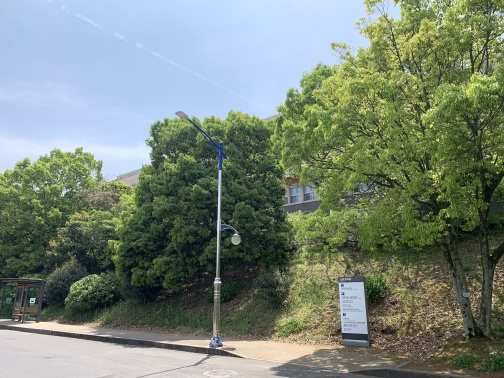College Of Education: (97, 111, 398, 216)
